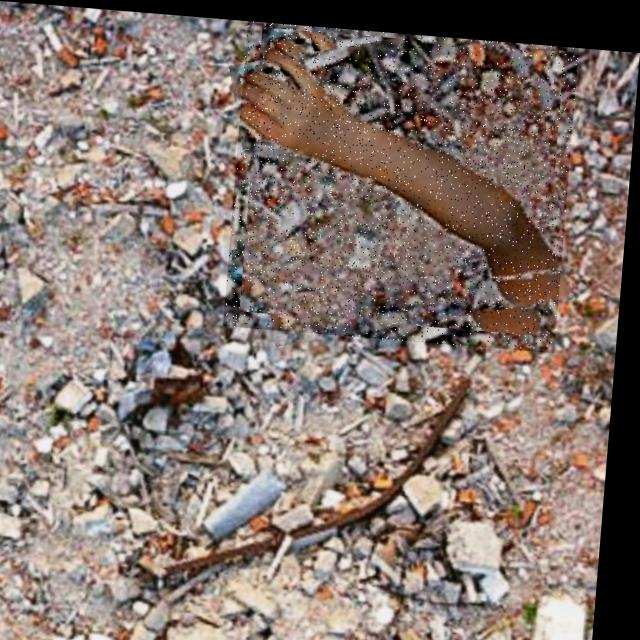Person in Rubble: (228, 16, 579, 342)
